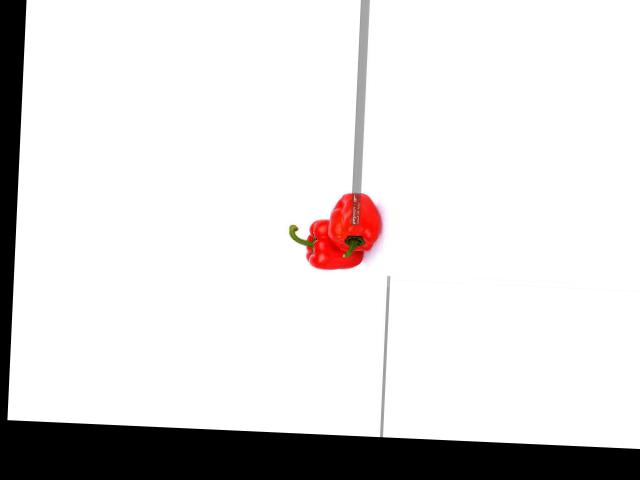bell_pepper: (322, 184, 382, 257)
